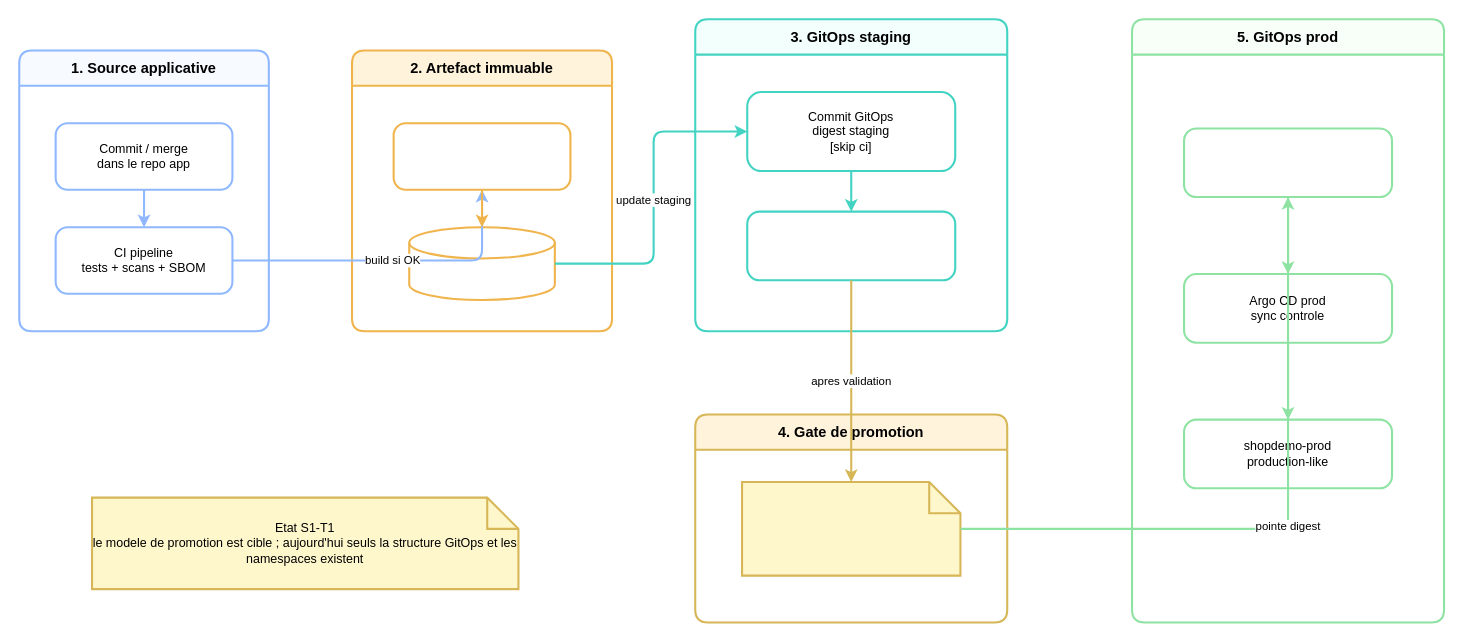
The diagram is 1462 pixels wide and 641 high, and some of its shapes have lost their labels. Here are the shapes that lost their labels. From the top down, the centre of each, then its label:
At pixel 481 156: "Image registry image poussee".
At pixel 1287 162: "Commit/tag GitOps prod digest approuve".
At pixel 481 263: "Digest sha256:...".
At pixel 851 245: "Argo CD staging auto sync + self-heal".
At pixel 850 528: "Decision explicite tag semver v*.*.* ou validation manuelle".
